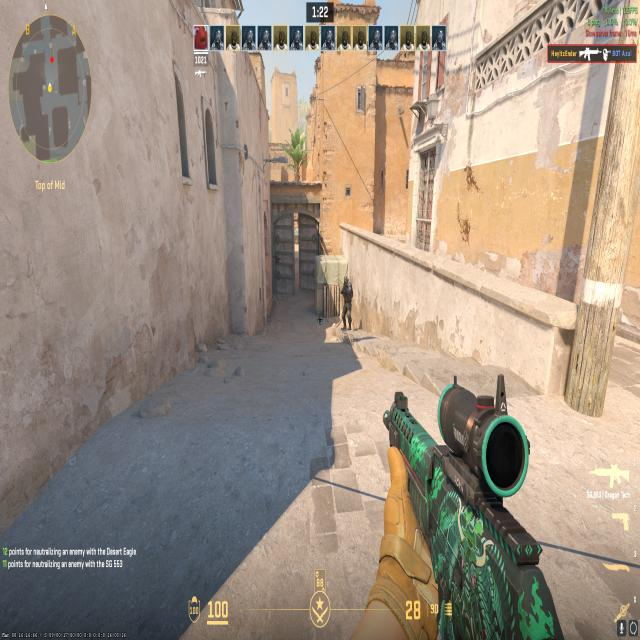ct: (336, 270, 357, 332)
